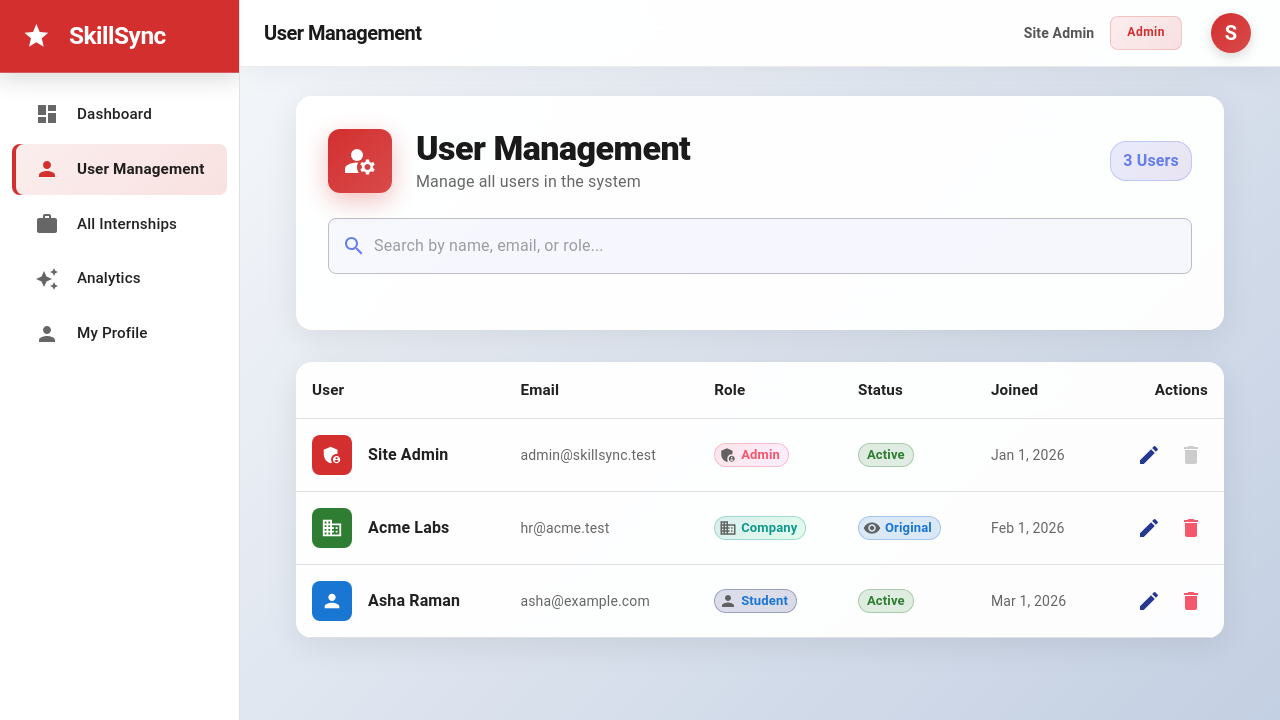
shows the server message when an update fails
The width and height of the screenshot is (1280, 720).
Expected: the text "hr@acme.test" is shown, 520,520 -> 610,536
Click the button named "Edit User" in the row of "Acme Labs" at (1149, 528), box 1132,511 -> 1166,545
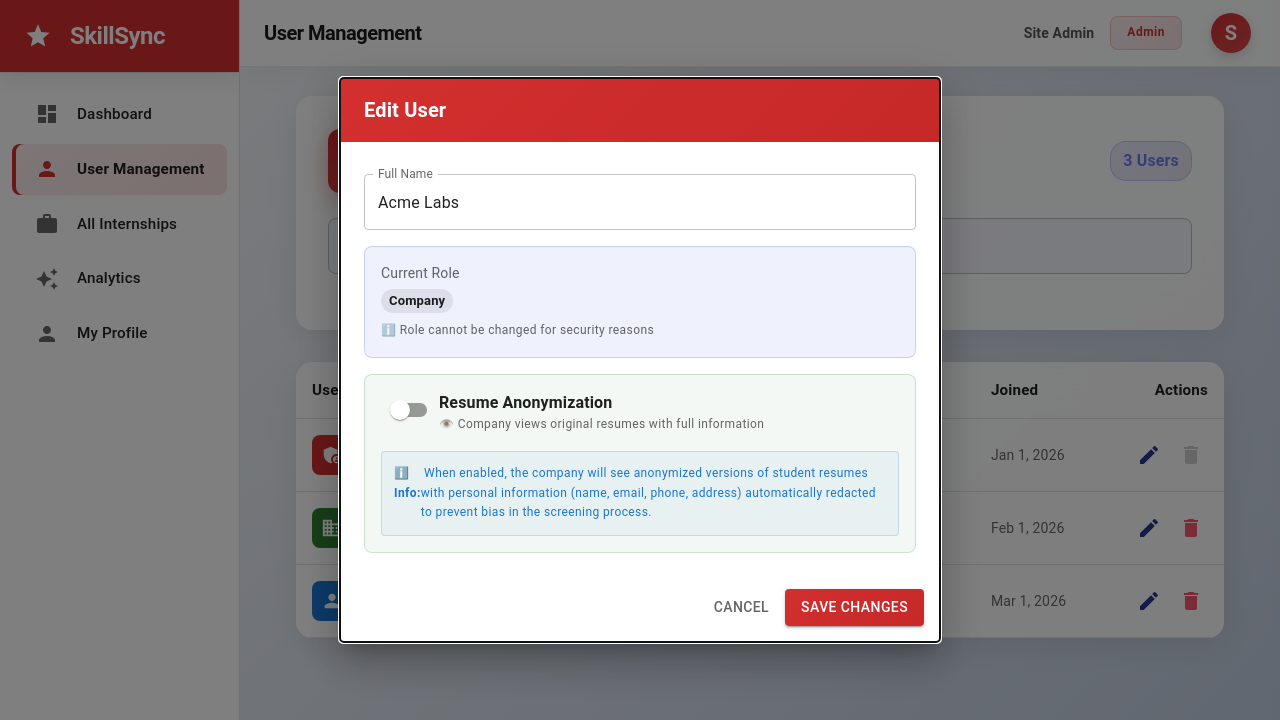
Click the button "Save Changes" at (855, 608), box 785,589 -> 924,626
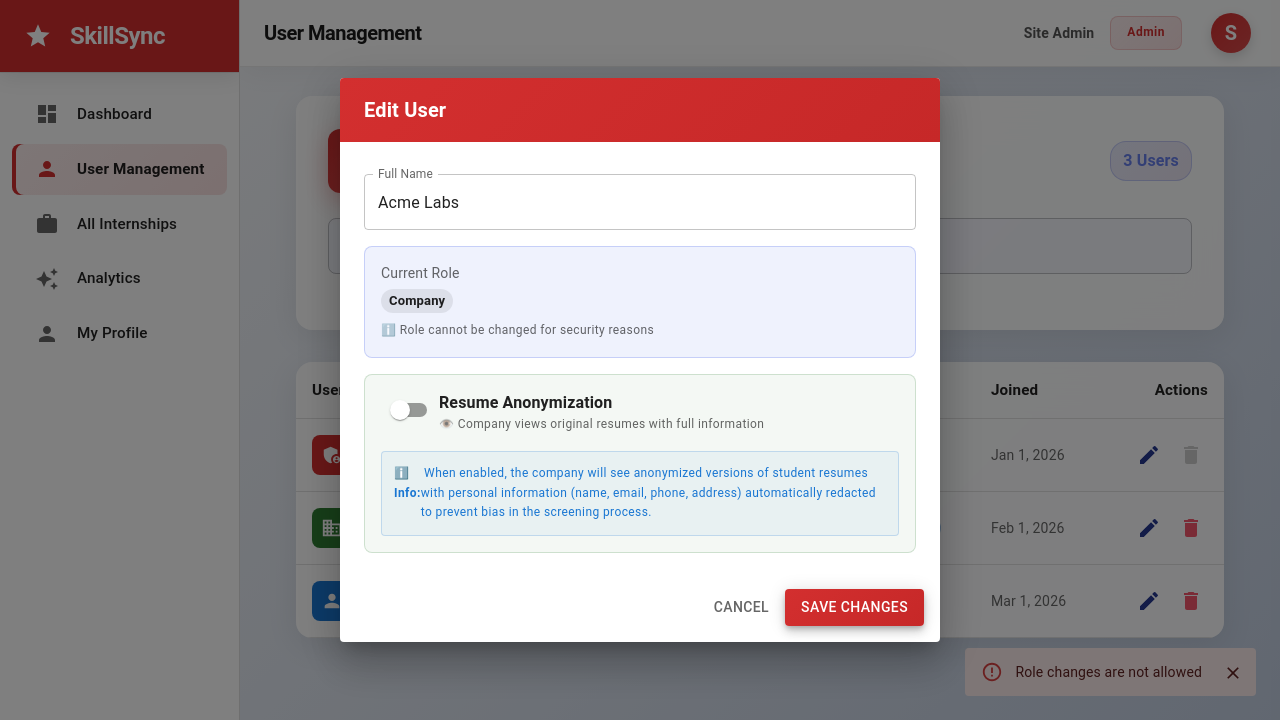
Now the text "Role changes are not allowed" is shown, box 1015,664 -> 1202,680
